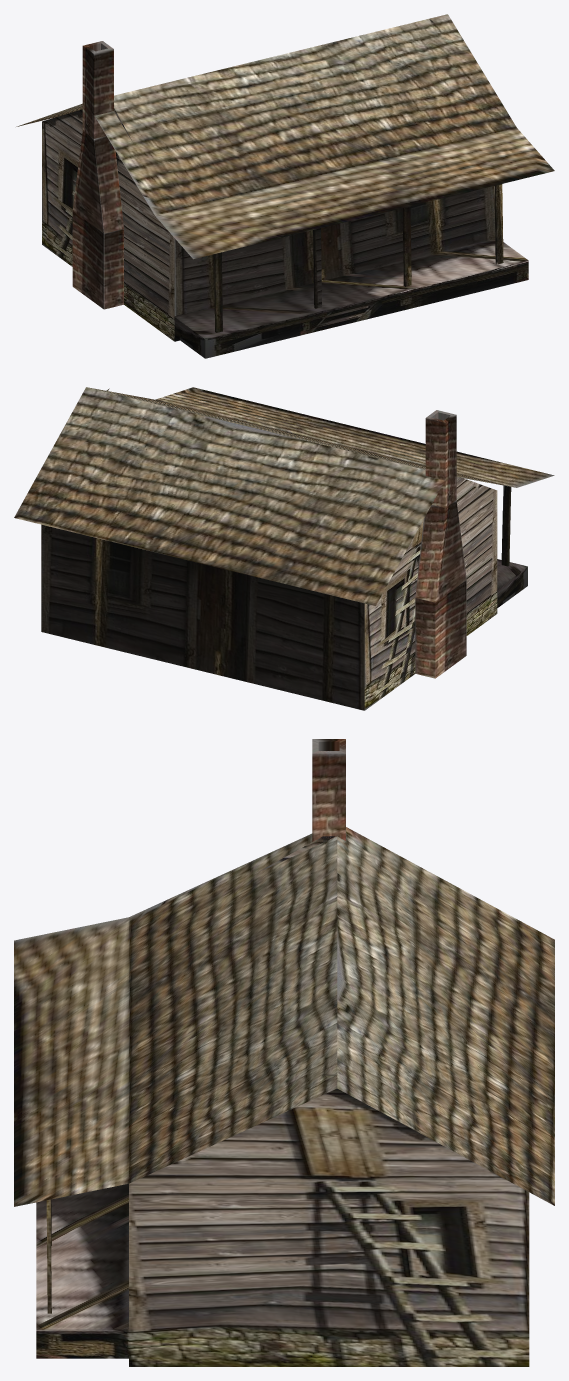
3 views of the same model, one above another, from view 1: azimuth 30°, elevation 25°; view 2: azimuth 150°, elevation 25°; view 3: azimuth 270°, elevation 25° (orthographic). The views are drawn at different scales.
Visible parts, largest first — view 1: h17; view 2: h17; view 3: h17.
Part boxes in pixels (bbox=[...]): h17: bbox=[16, 14, 554, 358]; h17: bbox=[14, 387, 554, 710]; h17: bbox=[14, 739, 554, 1366].
Bounding box in the file's own units: 1.9 × 1.24 × 1.63.
Materials: 1 (1 with a texture image).
